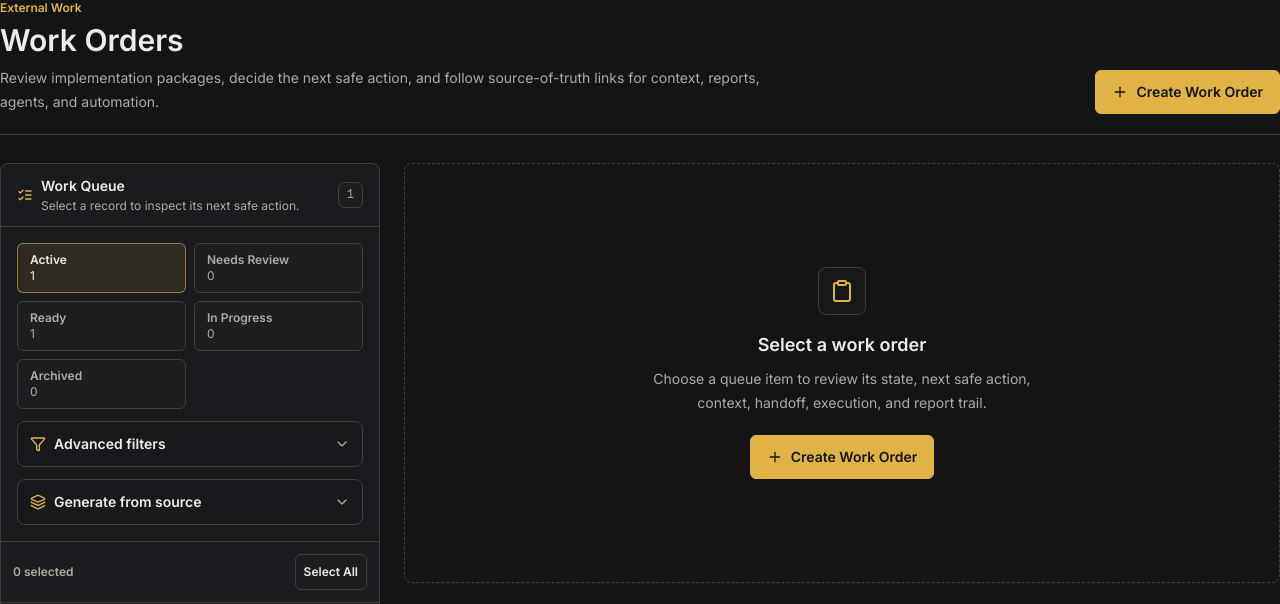
it: WorkOrdersPage — Project Context (M17E-2) › keeps creation explicit when no work order is selected
Expected: the heading "Select a work order" is shown, [758,334,926,355]
Click the 1st button "Create Work Order" at (1188, 92), box [1095,70,1279,114]
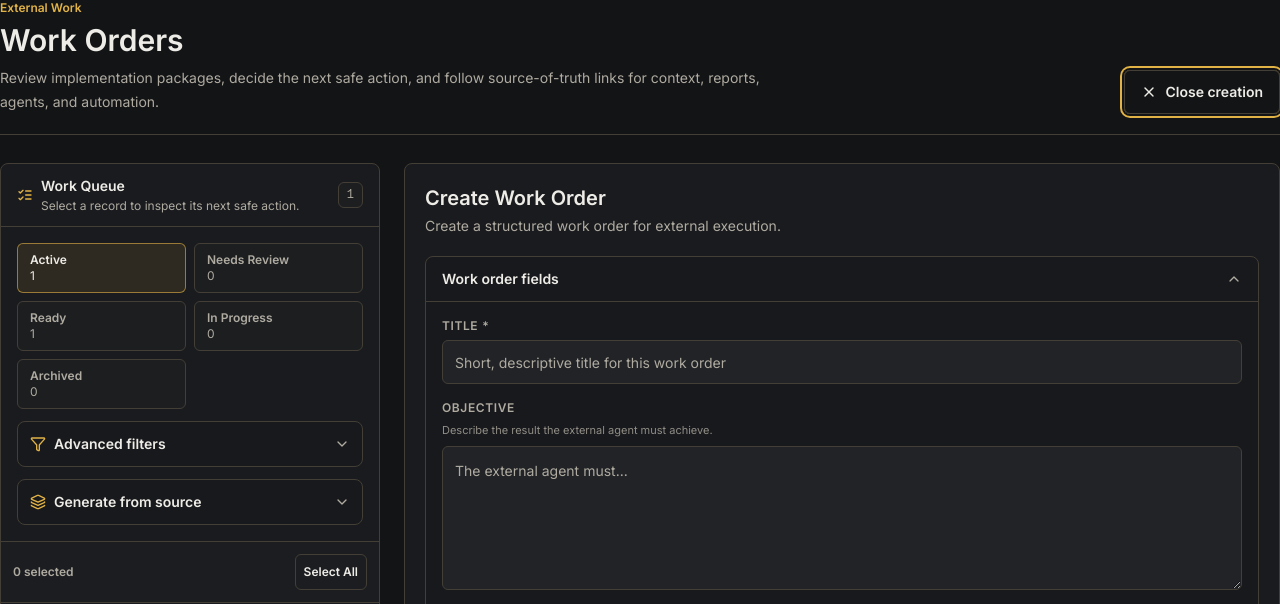
Expected: the heading "Create Work Order" is shown, [425,186,606,210]
Now the field with id "wo-title" is shown, box [442,340,1242,384]
Now the button "Close creation" is shown, box [1124,70,1279,114]
